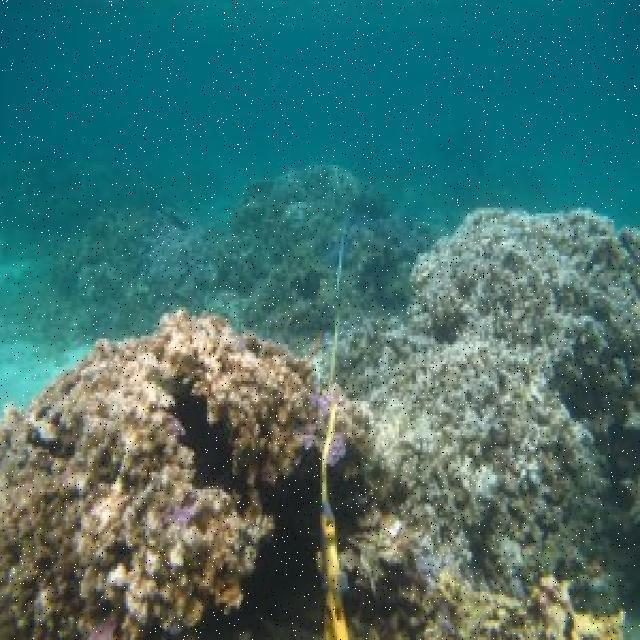Bleached: (339, 192, 640, 594)
Healthy: (1, 305, 321, 640)
